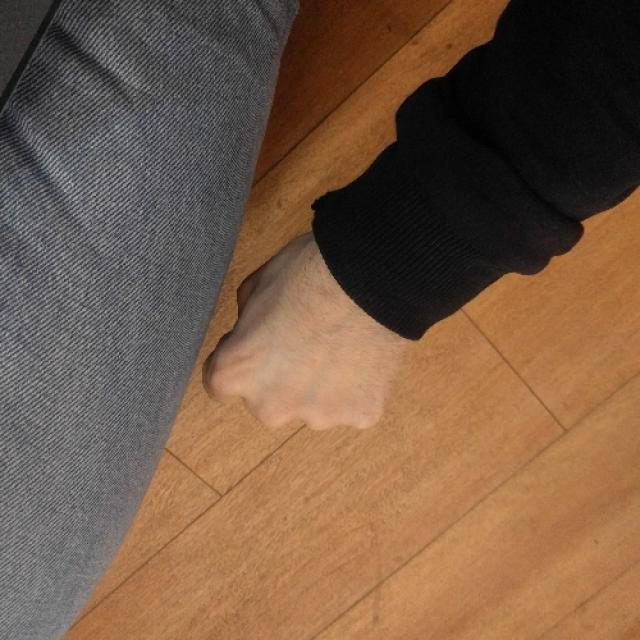rock: (202, 232, 395, 435)
